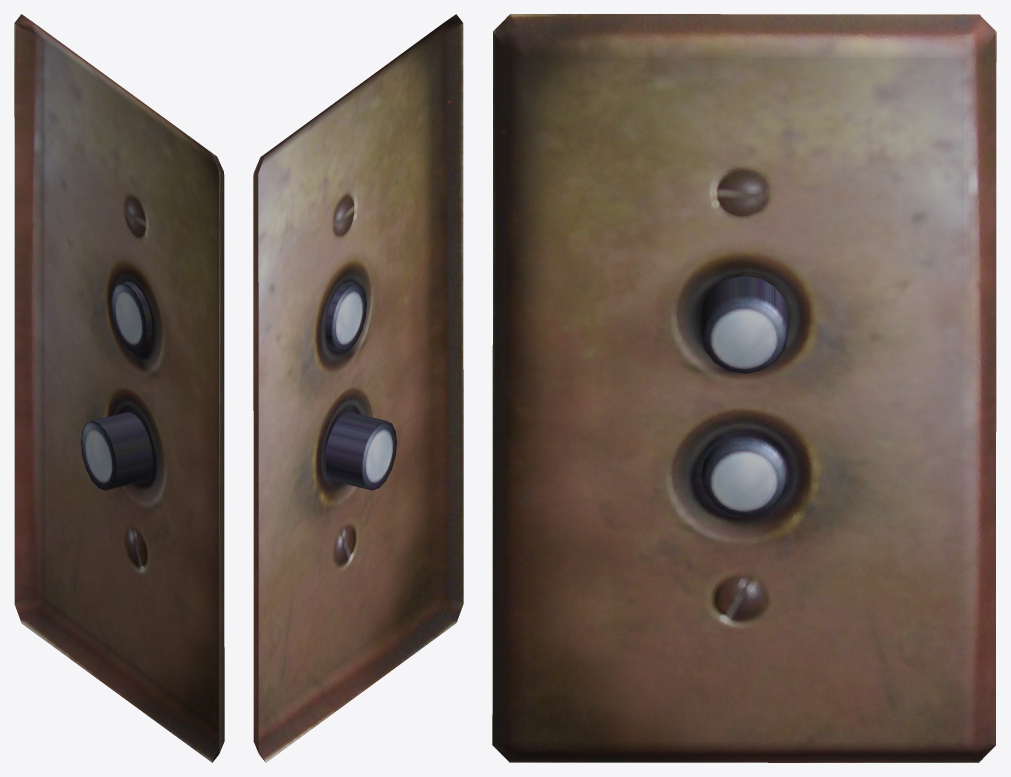
Rendered from Lightswitch.fbx.
3 renders of one model, left to right at view 1: azimuth 30°, elevation 25°; view 2: azimuth 150°, elevation 25°; view 3: azimuth 270°, elevation 25°, orthographic. The views are drawn at different scales.
Visible parts, largest first — view 1: LightswitchPlate, BottomButton, TopButton; view 2: LightswitchPlate, BottomButton, TopButton; view 3: LightswitchPlate, TopButton, BottomButton.
Part boxes in pixels (x1,y1,x2,y2): LightswitchPlate: [14, 14, 224, 762]; BottomButton: [81, 412, 152, 490]; TopButton: [111, 281, 152, 352]; LightswitchPlate: [253, 14, 463, 762]; BottomButton: [325, 412, 396, 490]; TopButton: [325, 281, 366, 352]; LightswitchPlate: [492, 14, 996, 762]; TopButton: [700, 276, 788, 373]; BottomButton: [700, 436, 788, 516].
Bounding box in the file's own units: 7.71 × 60.87 × 37.12.
1 material, 1 textured.
